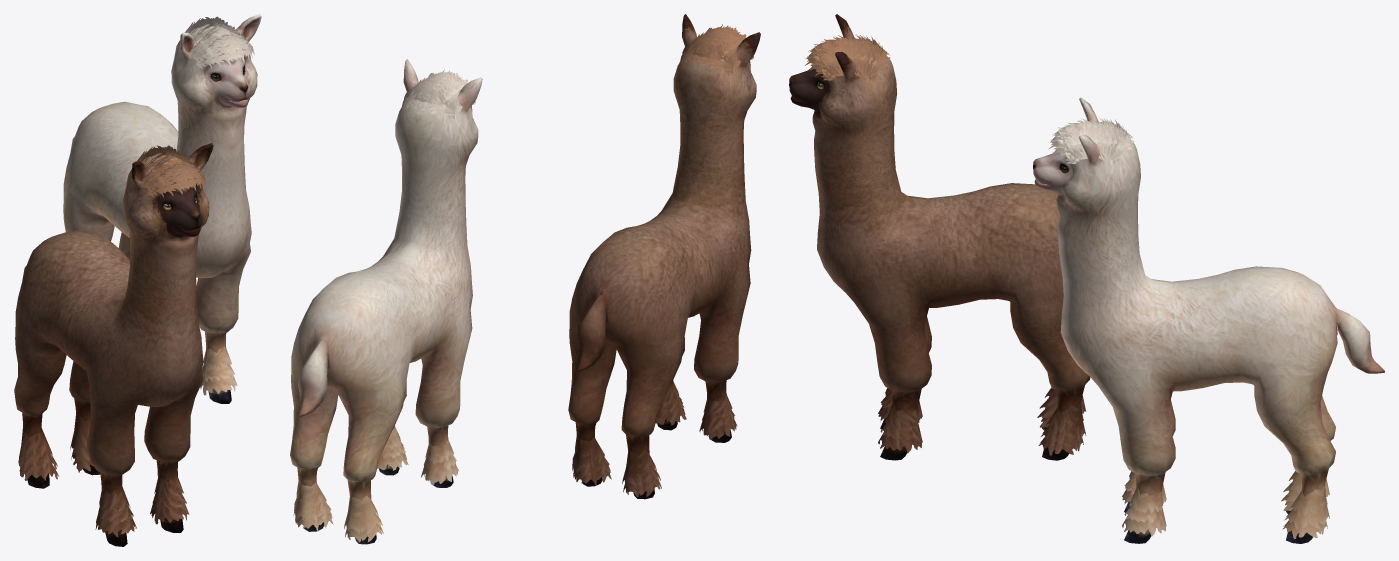
The model's file is CNM-YT.FBX.
3 views of the same model, side by side, from view 1: azimuth 30°, elevation 25°; view 2: azimuth 150°, elevation 25°; view 3: azimuth 270°, elevation 25° (orthographic). The views are drawn at different scales.
Visible parts, largest first — view 1: Alpacabrown01, Alpacabrown; view 2: Alpacabrown, Alpacabrown01; view 3: Alpacabrown, Alpacabrown01.
Part boxes in pixels (x1,y1,x2,y2): Alpacabrown01: [14, 143, 213, 546]; Alpacabrown: [63, 14, 261, 403]; Alpacabrown: [290, 59, 482, 544]; Alpacabrown01: [568, 14, 760, 499]; Alpacabrown: [1033, 97, 1384, 543]; Alpacabrown01: [789, 14, 1090, 460].
Bounding box in the file's own units: 112 × 155 × 204.
2 materials, 2 textured.
